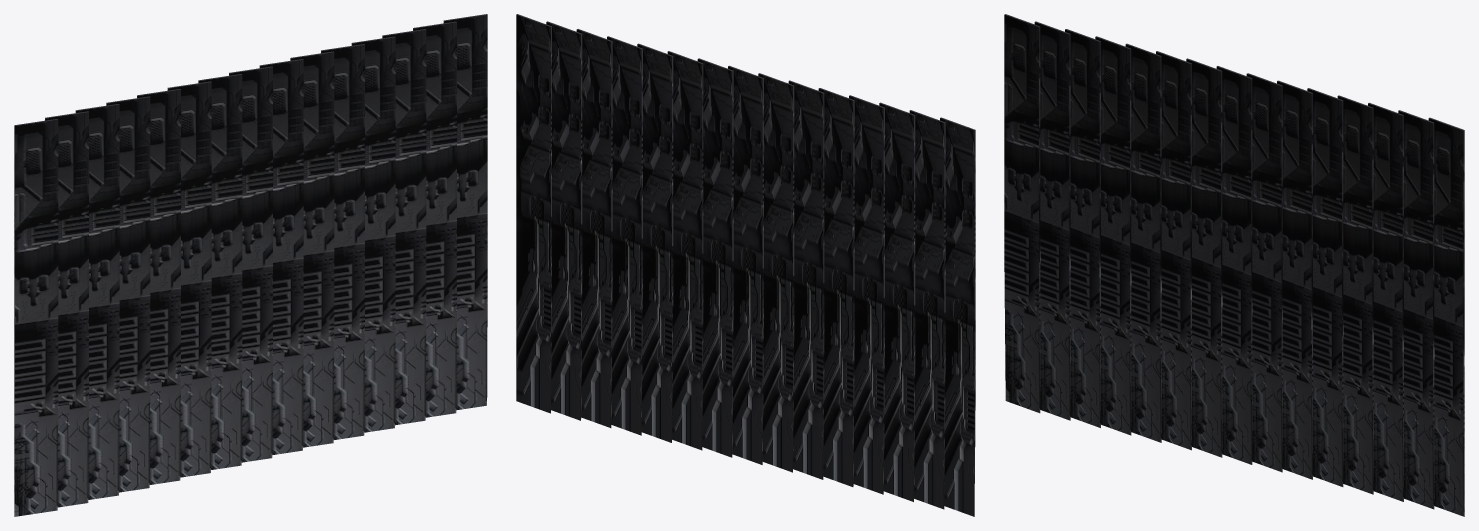
File: cortina.fbx
3 views of the same model, side by side, from view 1: azimuth 30°, elevation 25°; view 2: azimuth 150°, elevation 25°; view 3: azimuth 330°, elevation 25° (orthographic).
Visible parts, largest first — view 1: Cube.013; view 2: Cube.013; view 3: Cube.013.
Boxes of the visible parts, x1,y1,x2,y2 form: Cube.013: (14,14,487,516); Cube.013: (516,14,975,516); Cube.013: (1004,14,1464,516).
Size of the model in its own units: 388 by 310 by 7.41.
